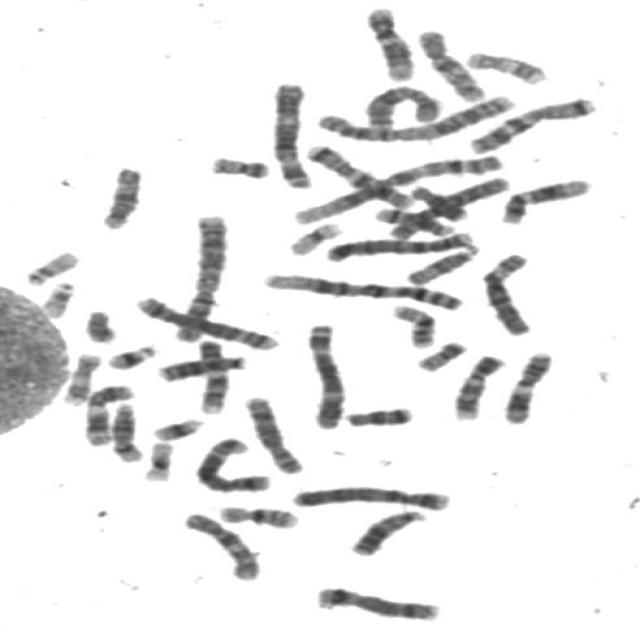A1: (285, 149, 507, 226), (255, 266, 468, 313)
A2: (306, 88, 519, 144), (165, 207, 232, 345)
A3: (263, 75, 317, 190), (298, 316, 349, 430)
B4: (319, 226, 477, 263), (284, 480, 454, 512)
B5: (129, 291, 282, 352), (188, 431, 274, 494)
C10: (174, 506, 264, 582), (410, 23, 489, 102)
C11: (494, 346, 556, 425), (76, 378, 136, 448)
C12: (493, 172, 594, 226), (358, 0, 418, 82)
C6: (381, 171, 513, 240), (474, 247, 538, 337)
C7: (460, 91, 600, 155), (299, 138, 418, 210)
C8: (235, 389, 307, 476), (307, 580, 444, 623)
C9: (444, 349, 507, 422), (188, 334, 232, 415)
D13: (342, 503, 429, 558), (150, 349, 250, 383)
D14: (366, 202, 456, 237), (102, 396, 146, 464)
D15: (399, 239, 483, 287), (92, 160, 146, 232)
E16: (211, 499, 302, 530), (384, 298, 439, 349)
E17: (456, 45, 552, 86), (53, 347, 104, 406)
E18: (403, 179, 471, 223), (337, 400, 415, 429)
F19: (281, 217, 345, 257), (135, 435, 177, 482)
F20: (408, 335, 469, 372), (202, 149, 272, 181)
G21: (99, 338, 160, 372), (144, 412, 206, 442)
G22: (17, 245, 82, 286), (33, 274, 78, 318)
X: (355, 78, 446, 130)
Y: (76, 304, 120, 344)
